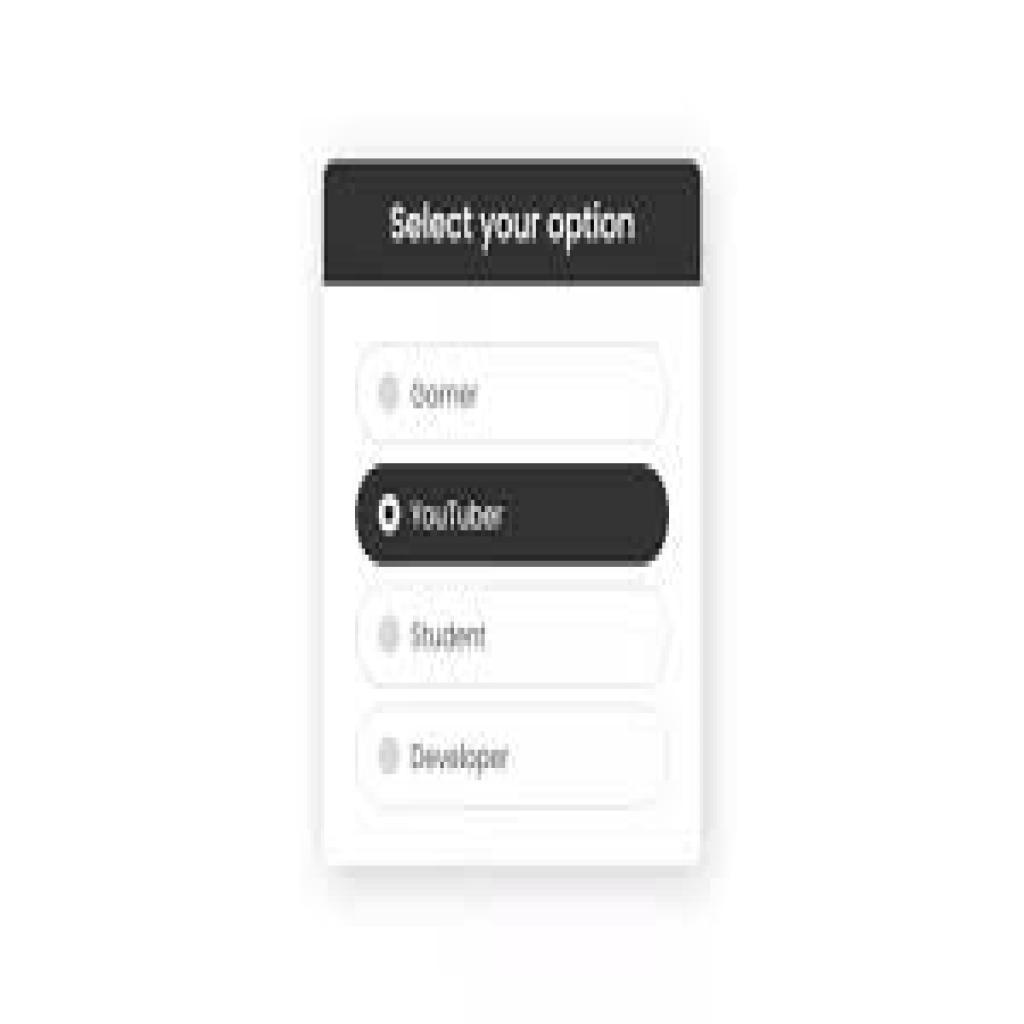radio: (377, 370, 404, 416), (380, 615, 401, 659), (381, 737, 403, 779), (381, 495, 401, 539)
